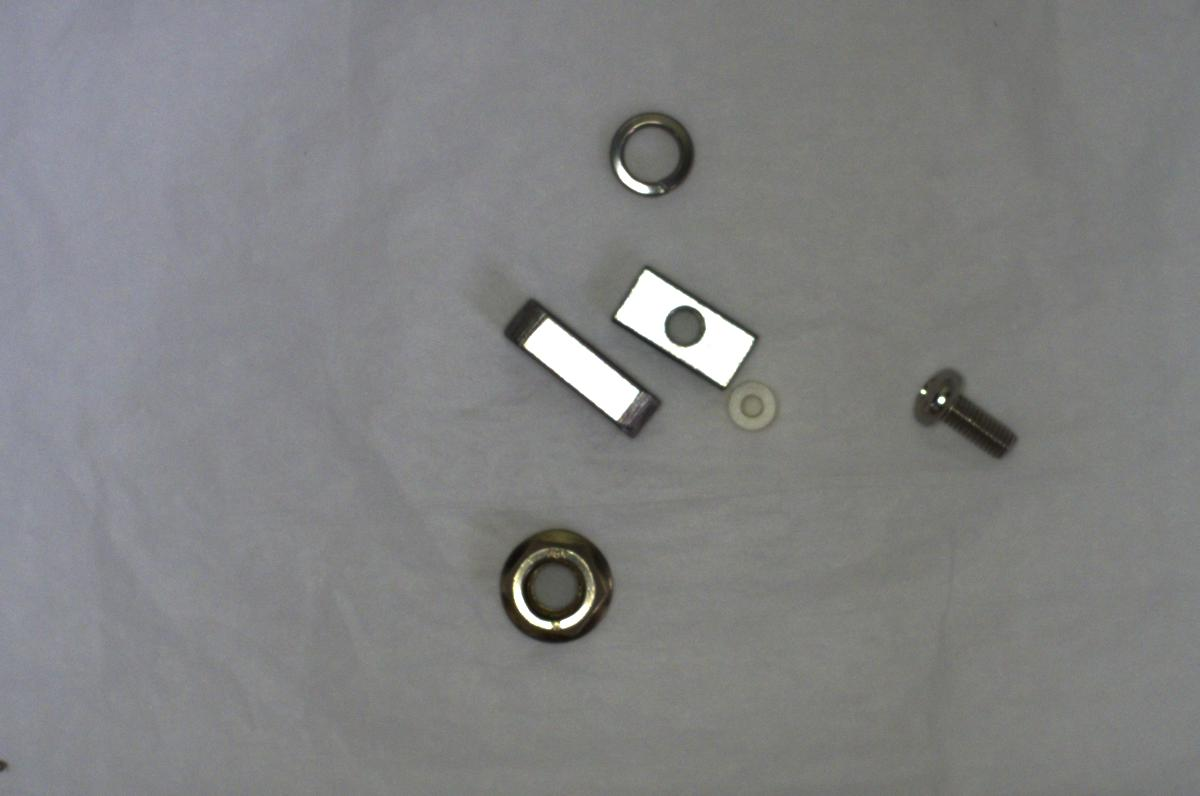Flange nut: (484, 516, 634, 653)
Keybar: (501, 299, 665, 439)
Plastic cushion pillar: (722, 378, 785, 432)
Rectangular nut: (604, 268, 758, 386)
Round head screw: (907, 360, 1021, 461)
Spring washer: (606, 103, 694, 201)
